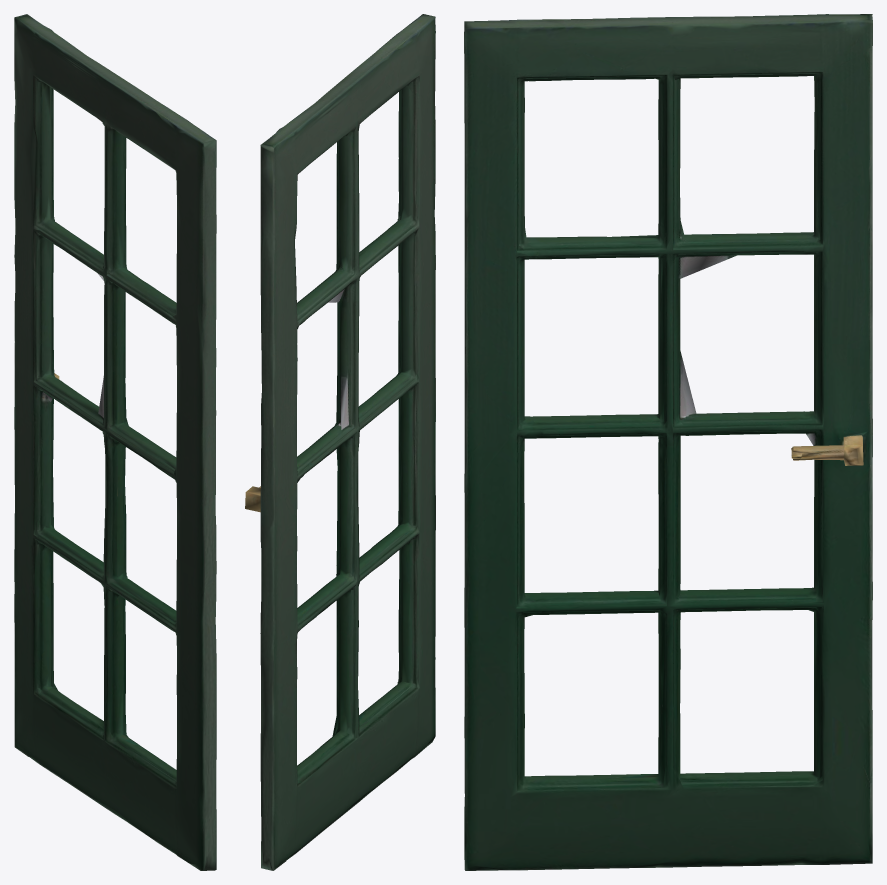
File: leaf_balc.glb
3 views of the same model, side by side, from view 1: azimuth 30°, elevation 25°; view 2: azimuth 150°, elevation 25°; view 3: azimuth 270°, elevation 25° (orthographic). The views are drawn at different scales.
Visible parts, largest first — view 1: tripo_node_34349cd9-1a59-4f4f-922e-78341a0ceec1; view 2: tripo_node_34349cd9-1a59-4f4f-922e-78341a0ceec1; view 3: tripo_node_34349cd9-1a59-4f4f-922e-78341a0ceec1.
Boxes of the visible parts, box(x1,y1,x2,y2) form: tripo_node_34349cd9-1a59-4f4f-922e-78341a0ceec1: box(14, 14, 216, 870); tripo_node_34349cd9-1a59-4f4f-922e-78341a0ceec1: box(245, 14, 435, 870); tripo_node_34349cd9-1a59-4f4f-922e-78341a0ceec1: box(464, 14, 872, 870).
Bounding box in the file's own units: 0.0544 × 0.9793 × 0.4306.
Materials: 1 (1 with a texture image).
